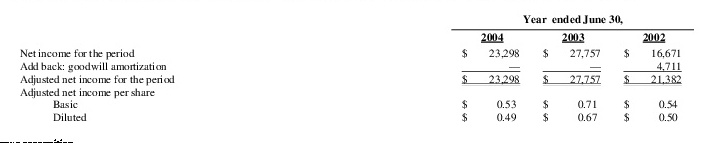table: (0, 0, 705, 143)
